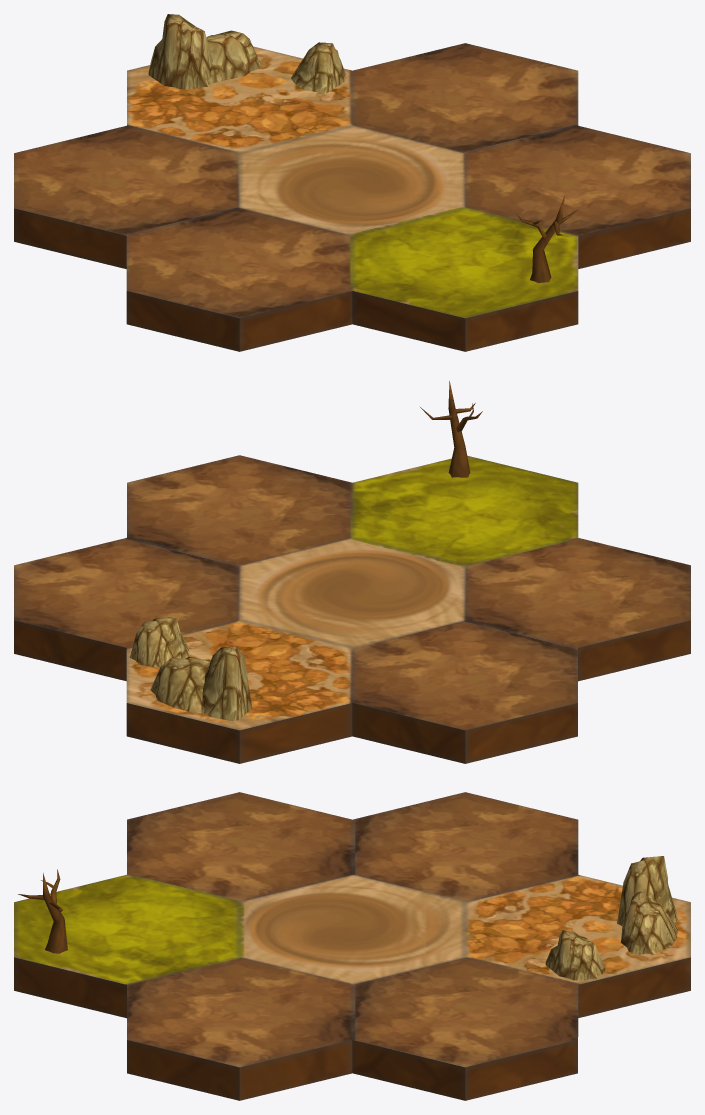
The model's file is Tile_Desert3.fbx.
3 renders of one model, top to bottom at view 1: azimuth 30°, elevation 25°; view 2: azimuth 150°, elevation 25°; view 3: azimuth 270°, elevation 25°, orthographic.
Visible parts, largest first — view 1: desertTile3, mountain6, mountain7, mountain8, dryTree07; view 2: desertTile3, mountain6, mountain7, mountain8, dryTree07; view 3: desertTile3, mountain7, mountain6, mountain8, dryTree07.
Boxes of the visible parts, x1=… form: desertTile3: x1=14, y1=43, x2=690, y2=351; mountain6: x1=148, y1=14, x2=212, y2=89; mountain7: x1=206, y1=30, x2=260, y2=83; mountain8: x1=291, y1=42, x2=345, y2=93; dryTree07: x1=517, y1=196, x2=578, y2=282; desertTile3: x1=14, y1=455, x2=690, y2=763; mountain6: x1=202, y1=646, x2=252, y2=721; mountain7: x1=150, y1=656, x2=210, y2=713; mountain8: x1=130, y1=617, x2=189, y2=667; dryTree07: x1=420, y1=381, x2=482, y2=477; desertTile3: x1=14, y1=792, x2=690, y2=1100; mountain7: x1=621, y1=891, x2=677, y2=954; mountain6: x1=617, y1=856, x2=677, y2=925; mountain8: x1=545, y1=930, x2=606, y2=980; dryTree07: x1=18, y1=869, x2=67, y2=953.
Size of the model in its own units: 128 by 25.77 by 133.
